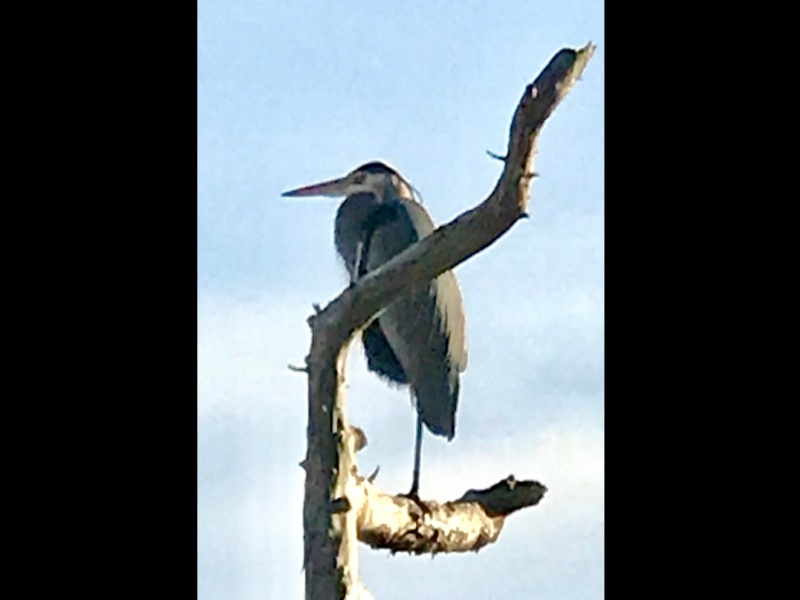heron: (274, 158, 471, 518)
